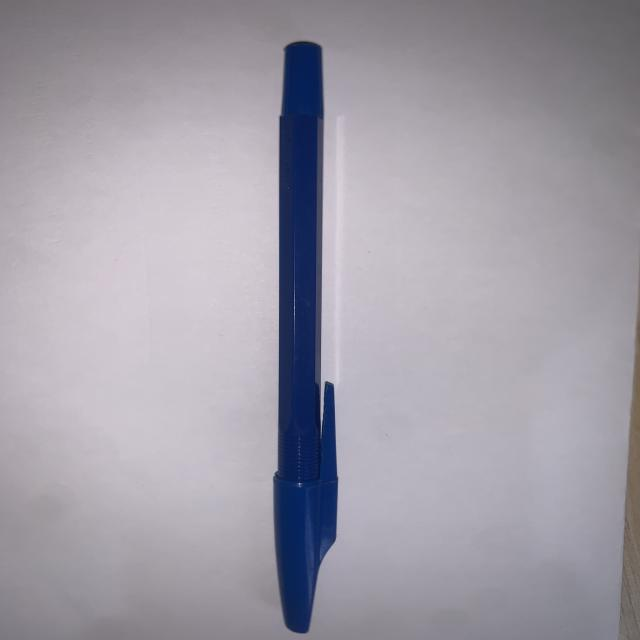Pulpen: (266, 37, 358, 640)
